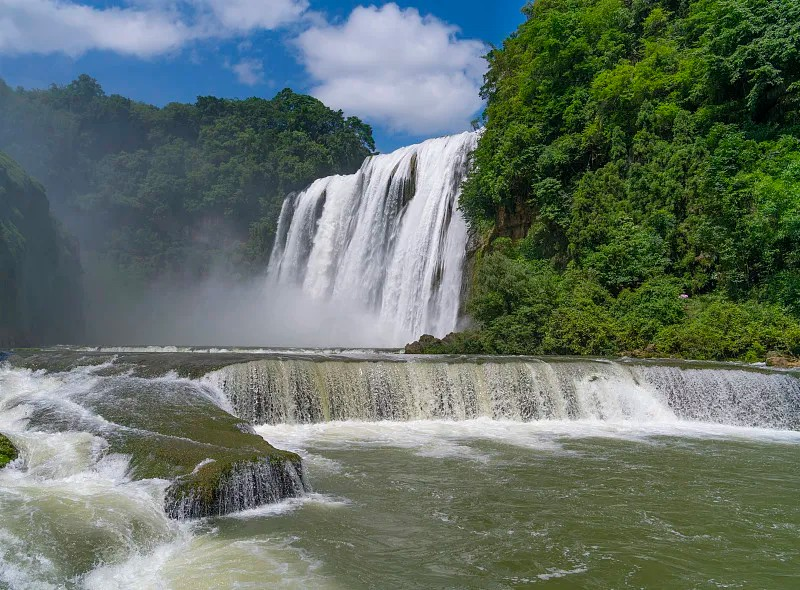Huangguoshu: (266, 130, 484, 350)
